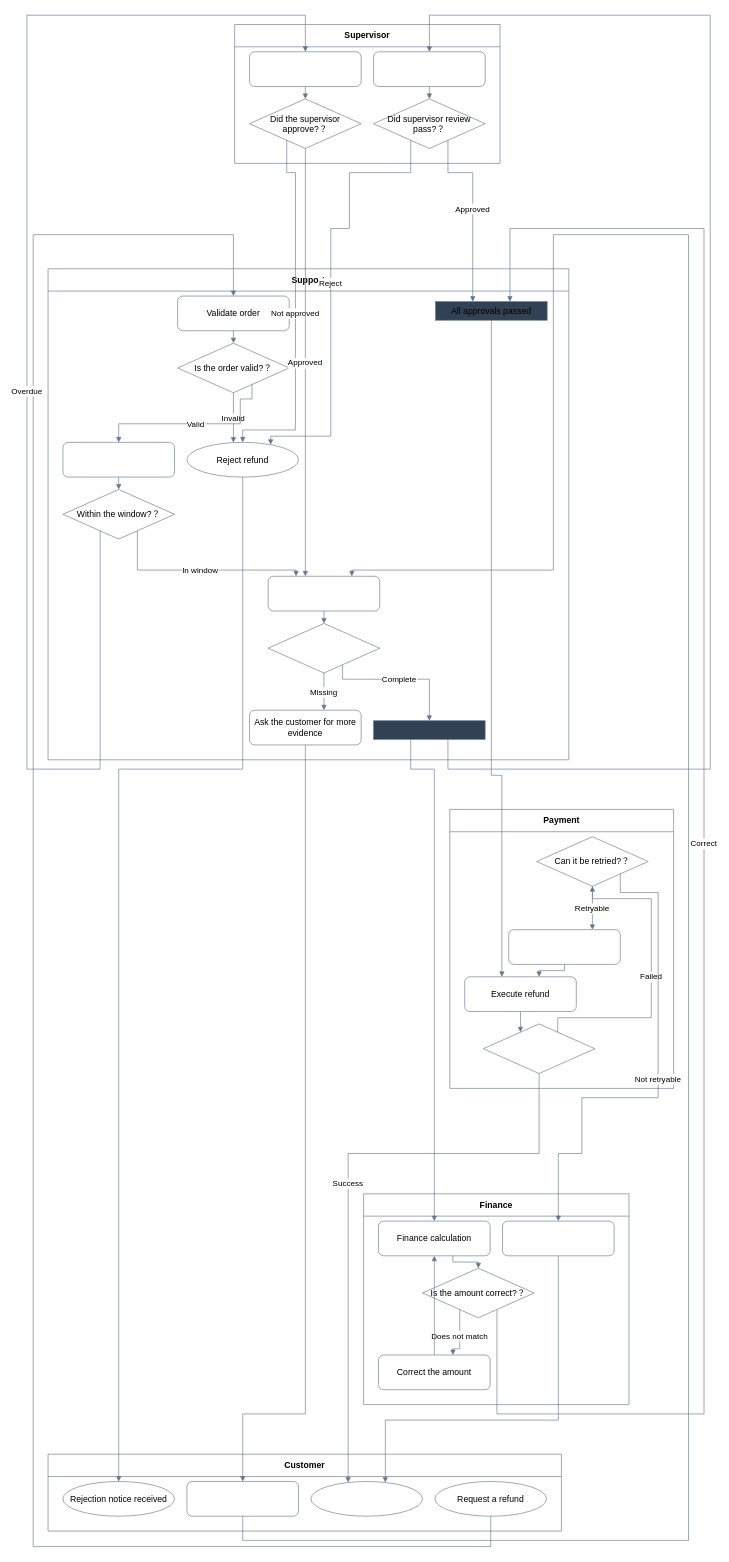
Image size: 729x1562. Some labels were removed from this diagram. The centre of each missing label's shape, as x and y in pixels:
"Check evidence completeness" goes at [324,593].
"Check the refund window" goes at [118,459].
"Did the refund succeed?？" goes at [539,1048].
"Exception review" goes at [305,68].
"Is the evidence complete?？" goes at [324,648].
"Manual handling" goes at [558,1238].
"Notify the customer and archive" goes at [366,1498].
"Retry refund" goes at [564,946].
"Submit more evidence" goes at [242,1498].
"Supervisor review" goes at [429,68].
